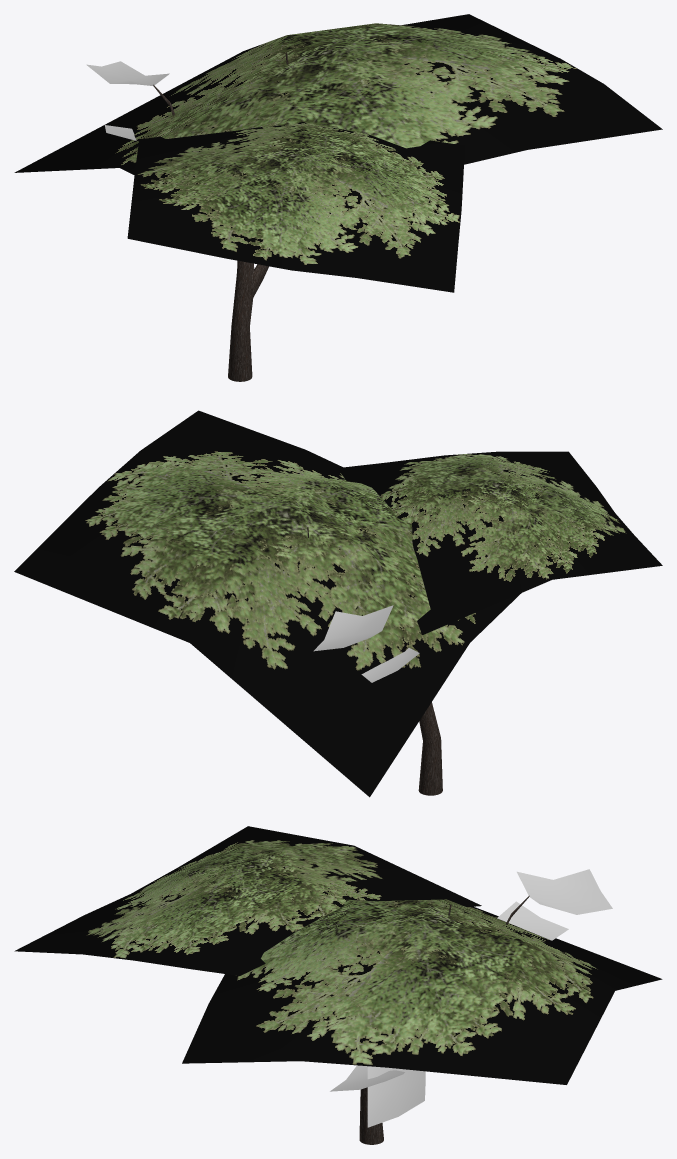
Rendered from MOD_Tree_02.fbx.
The picture shows the model from 3 angles, top to bottom: view 1: azimuth 30°, elevation 25°; view 2: azimuth 150°, elevation 25°; view 3: azimuth 270°, elevation 25°; orthographic projection. The views are drawn at different scales.
Parts seen in each view (by area): view 1: Tree_Canopy, Tree_Canopy1, Tree_MOD, Tree_Branch_MOD83; view 2: Tree_Canopy, Tree_Canopy1, Tree_Branch_MOD83, Tree_MOD, Tree_Branch_MOD82; view 3: Tree_Canopy, Tree_Canopy1, Tree_Branch_MOD83, Tree_Branch_MOD70, Tree_Branch_MOD82, Tree_MOD, Tree_Branch_MOD71.
Boxes of the visible parts, left/top/right/bottom form: Tree_Canopy: left=14, top=14, right=662, bottom=175; Tree_Canopy1: left=127, top=122, right=464, bottom=292; Tree_MOD: left=153, top=53, right=288, bottom=381; Tree_Branch_MOD83: left=86, top=61, right=169, bottom=85; Tree_Canopy: left=14, top=410, right=521, bottom=797; Tree_Canopy1: left=337, top=451, right=662, bottom=634; Tree_Branch_MOD83: left=313, top=605, right=393, bottom=651; Tree_MOD: left=307, top=527, right=442, bottom=795; Tree_Branch_MOD82: left=361, top=648, right=419, bottom=682; Tree_Canopy: left=182, top=899, right=662, bottom=1084; Tree_Canopy1: left=14, top=826, right=481, bottom=975; Tree_Branch_MOD83: left=517, top=869, right=612, bottom=914; Tree_Branch_MOD70: left=367, top=1066, right=425, bottom=1127; Tree_Branch_MOD82: left=497, top=901, right=568, bottom=940; Tree_MOD: left=359, top=895, right=529, bottom=1144; Tree_Branch_MOD71: left=330, top=1065, right=404, bottom=1091.
Bounding box in the file's own units: 3903 × 2059 × 4314.
